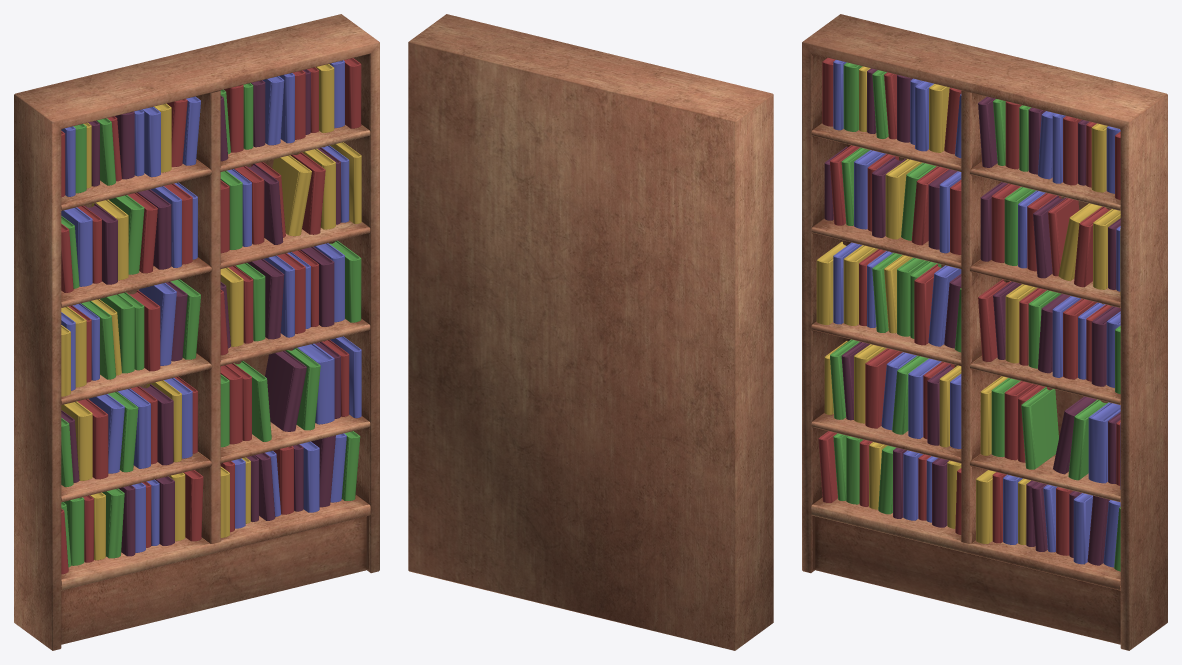
File: wooden_bookshelf.glb
The picture shows the model from 3 angles, left to right: view 1: azimuth 30°, elevation 25°; view 2: azimuth 150°, elevation 25°; view 3: azimuth 330°, elevation 25°; orthographic projection.
Visible parts, largest first — view 1: Object_2, Object_5, Object_7, Object_9, Object_3, Object_8, Object_4, Object_6, Object_10; view 2: Object_2; view 3: Object_2, Object_3, Object_7, Object_9, Object_5, Object_8, Object_4, Object_6, Object_10.
Boxes of the visible parts, x1,y1,x2,y2 form: Object_2: [14, 14, 379, 650]; Object_5: [61, 73, 361, 552]; Object_7: [61, 83, 361, 567]; Object_9: [61, 69, 340, 556]; Object_3: [61, 131, 349, 574]; Object_8: [61, 64, 361, 560]; Object_4: [61, 58, 361, 292]; Object_6: [61, 60, 344, 267]; Object_10: [84, 203, 117, 284]; Object_2: [408, 14, 773, 650]; Object_2: [802, 14, 1167, 650]; Object_3: [818, 58, 1120, 555]; Object_7: [830, 62, 1120, 571]; Object_9: [824, 68, 1120, 565]; Object_5: [833, 78, 1120, 567]; Object_8: [816, 66, 1120, 544]; Object_4: [830, 72, 1120, 254]; Object_6: [833, 60, 1120, 253]; Object_10: [872, 156, 905, 237].
Bounding box in the file's own units: 1.84 × 2.84 × 0.3749.
Materials: 6 (1 with a texture image).
